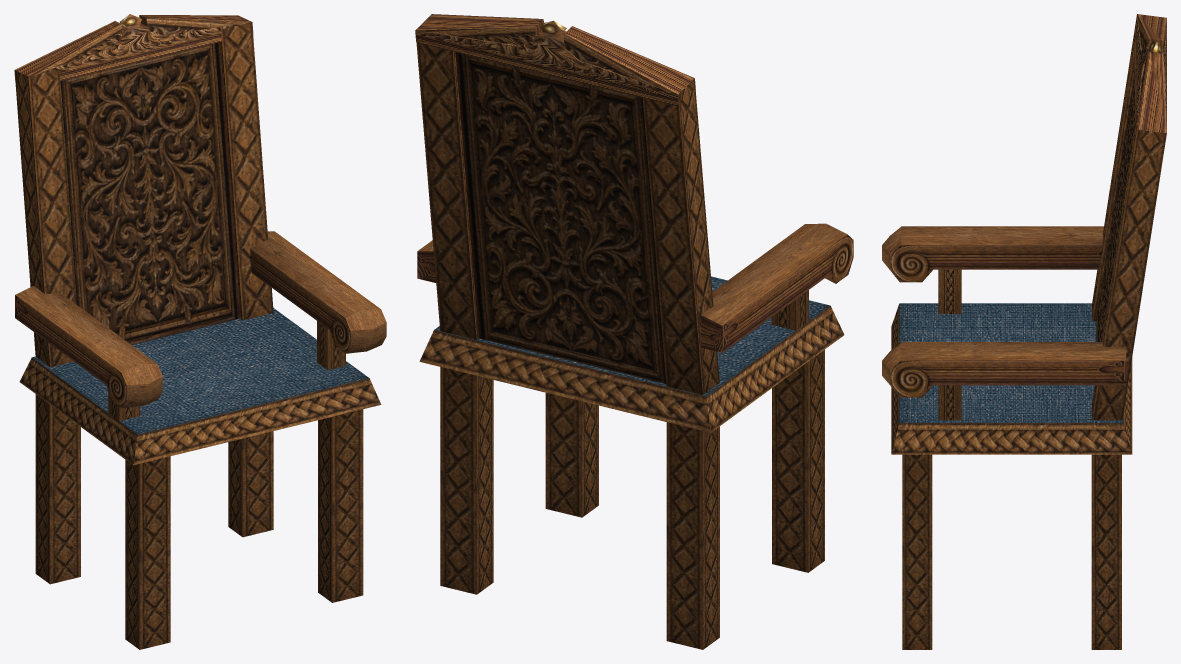
The model's file is mm9_deco_chair02.glb.
3 renders of one model, left to right at view 1: azimuth 30°, elevation 25°; view 2: azimuth 150°, elevation 25°; view 3: azimuth 270°, elevation 25°, orthographic. The views are drawn at different scales.
Parts seen in each view (by area): view 1: Chair02; view 2: Chair02; view 3: Chair02.
Part boxes in pixels (x1,y1,x2,y2): Chair02: (14,14,386,649); Chair02: (415,14,853,649); Chair02: (882,14,1166,649).
Size of the model in its own units: 0.8502 by 1.63 by 0.7633.
2 materials, 2 textured.
